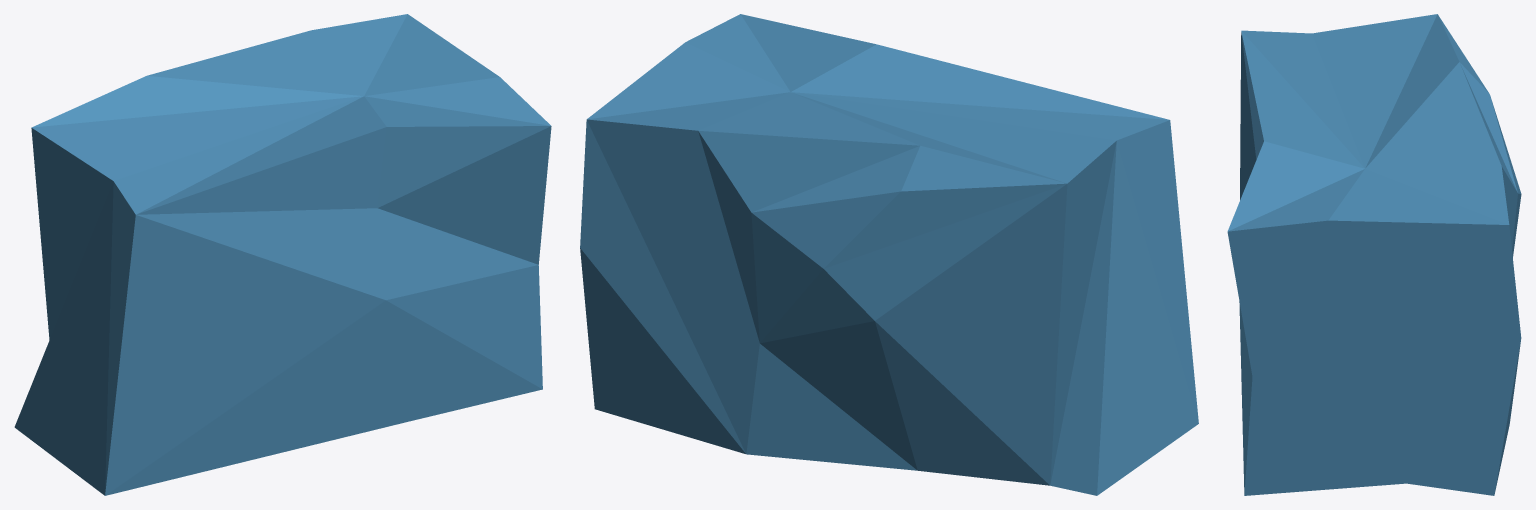
Rendered from SP_Rock05.fbx.
3 views of the same model, side by side, from view 1: azimuth 30°, elevation 25°; view 2: azimuth 150°, elevation 25°; view 3: azimuth 270°, elevation 25° (orthographic). The views are drawn at different scales.
Visible parts, largest first — view 1: SP_Rock05; view 2: SP_Rock05; view 3: SP_Rock05.
Boxes of the visible parts, x1,y1,x2,y2 form: SP_Rock05: [14, 14, 551, 495]; SP_Rock05: [580, 14, 1198, 495]; SP_Rock05: [1227, 14, 1521, 495].
Bounding box in the file's own units: 163 × 108 × 97.07.
1 material, 1 textured.
